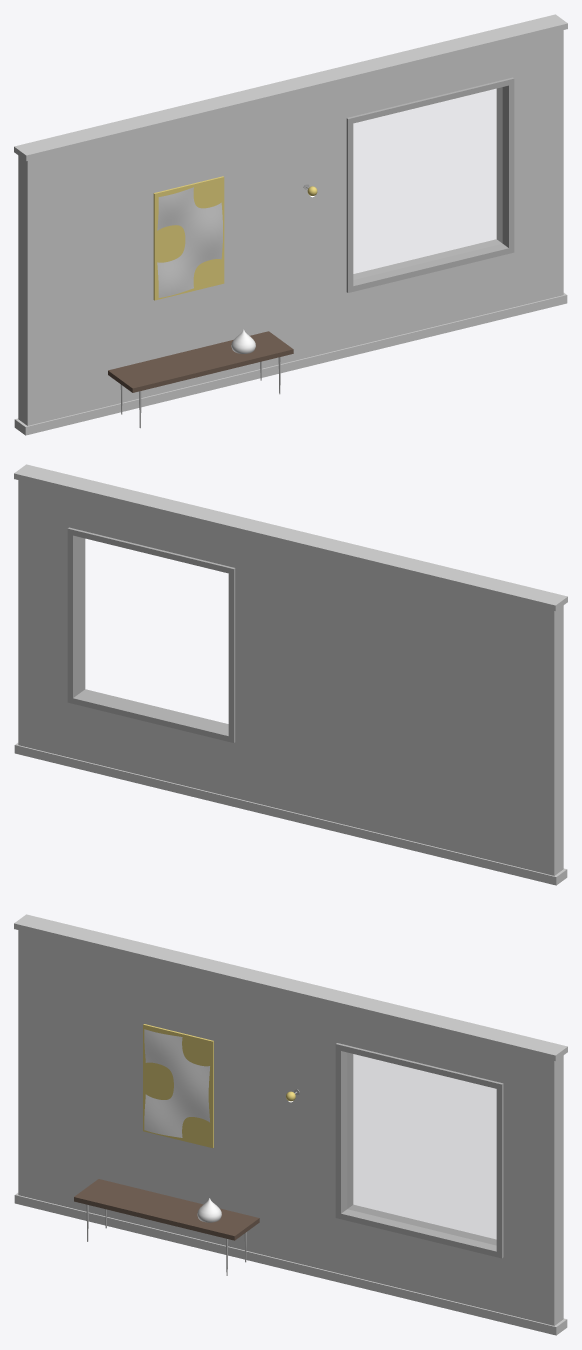
Rendered from a-wall-to-a-house.gltf.
3 renders of one model, top to bottom at view 1: azimuth 30°, elevation 25°; view 2: azimuth 150°, elevation 25°; view 3: azimuth 330°, elevation 25°, orthographic.
Size of the model in its own units: 10.1 by 5 by 1.15.
